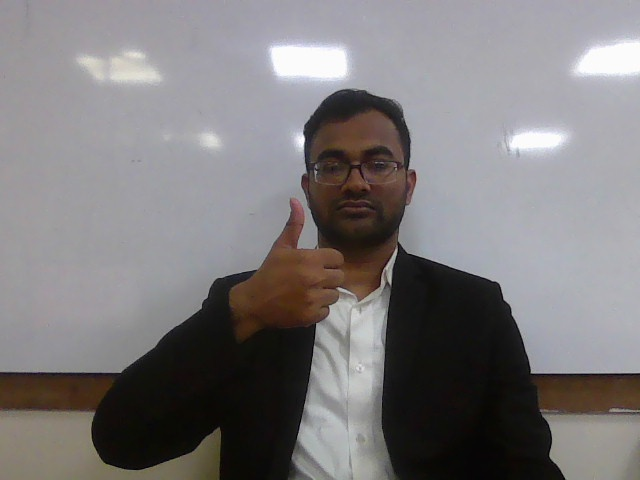Bhalo: (238, 197, 346, 331)
